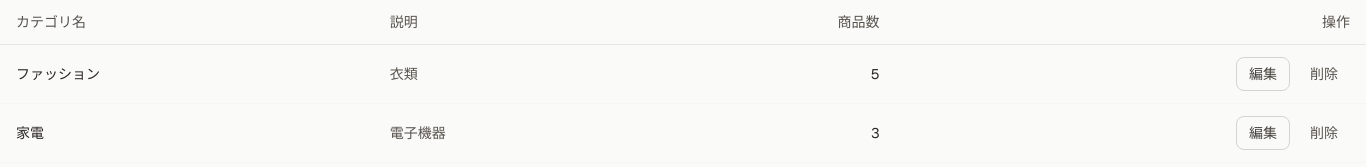
Test: AdminCategoryTable › shows delete confirmation flow
The image size is (1366, 167).
Click the button "削除" in the row of "ファッション" at (1324, 74), box [1298, 58, 1350, 90]
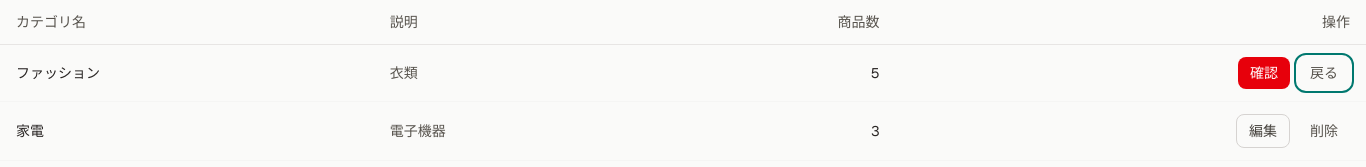
Expected: the button "確認" is shown, [1238, 57, 1290, 89]
Click the button "戻る" at (1324, 73), box [1298, 57, 1350, 89]
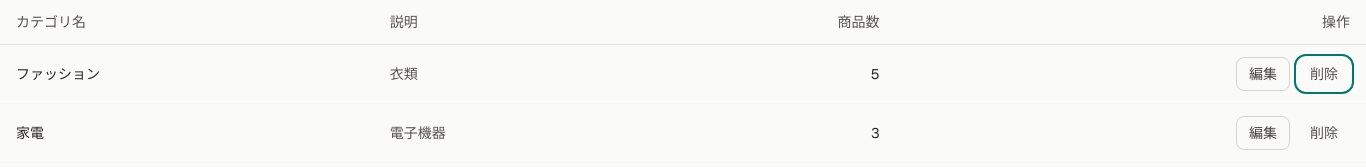
Expected: the button "確認" is gone
